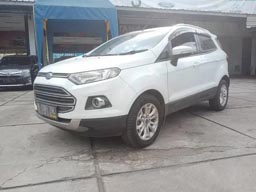plat: (34, 101, 59, 122)
